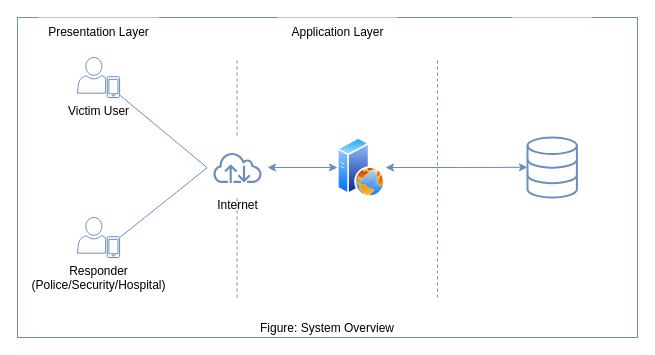
This 655x355 diagram has some shape labels left out. The centre of each missing label's shape, as x and y in pixels:
"Data Layer" belongs at (x=552, y=32).
"Database Server" belongs at (x=551, y=167).
"Web Server" belongs at (x=361, y=167).
